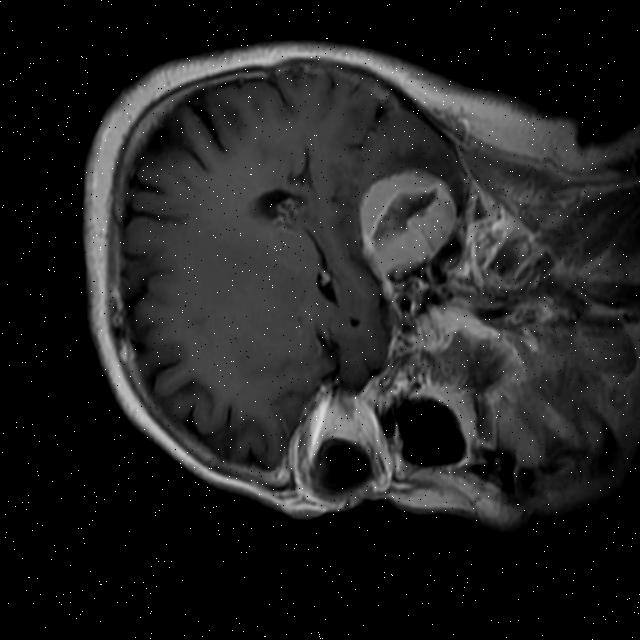Meningioma: (339, 153, 474, 293)
